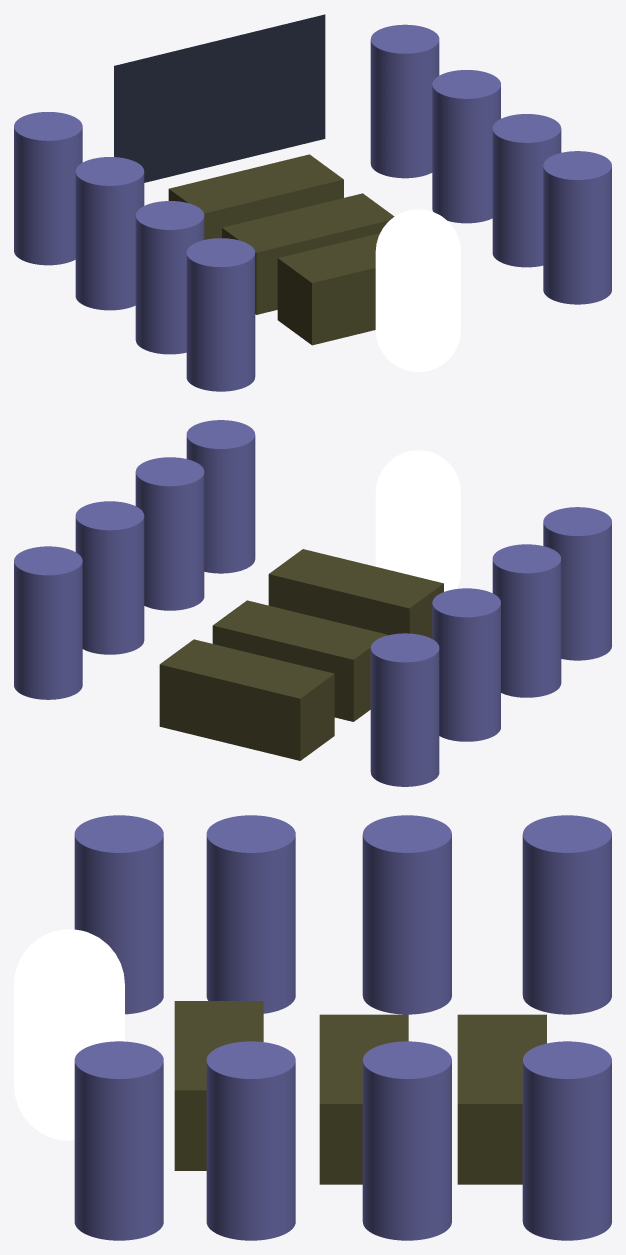
File: theater.glb
3 renders of one model, top to bottom at view 1: azimuth 30°, elevation 25°; view 2: azimuth 150°, elevation 25°; view 3: azimuth 270°, elevation 25°, orthographic. The views are drawn at different scales.
Visible parts, largest first — view 1: EmissiveScreen, glowingcapsule, Pillar3, Pillar7, Pillar9, Pillar8, Pillar, Pillar5, MeshInstance3D3, Pillar2, Pillar6, MeshInstance3D (+1 smaller); view 2: MeshInstance3D, Pillar8, glowingcapsule, Pillar9, MeshInstance3D3, Pillar5, Pillar, Pillar6, Pillar2, MeshInstance3D2, Pillar7, Pillar3; view 3: Pillar7, Pillar6, Pillar8, Pillar9, Pillar, Pillar5, glowingcapsule, Pillar2, Pillar3, MeshInstance3D, MeshInstance3D2, MeshInstance3D3.
Boxes of the visible parts, x1,y1,x2,y2 form: EmissiveScreen: [114, 14, 325, 182]; glowingcapsule: [375, 209, 460, 371]; Pillar3: [186, 238, 255, 391]; Pillar7: [543, 151, 611, 304]; Pillar9: [370, 24, 439, 178]; Pillar8: [14, 112, 82, 265]; Pillar: [75, 157, 144, 310]; Pillar5: [432, 70, 500, 223]; MeshInstance3D3: [277, 233, 379, 345]; Pillar2: [135, 201, 204, 354]; Pillar6: [492, 114, 561, 267]; MeshInstance3D: [168, 154, 343, 239]; MeshInstance3D: [159, 639, 334, 760]; Pillar8: [370, 633, 439, 786]; glowingcapsule: [375, 450, 460, 591]; Pillar9: [14, 546, 82, 699]; MeshInstance3D3: [268, 549, 443, 638]; Pillar5: [75, 501, 144, 654]; Pillar: [432, 588, 500, 741]; Pillar6: [135, 457, 204, 610]; Pillar2: [492, 544, 561, 697]; MeshInstance3D2: [212, 600, 387, 721]; Pillar7: [186, 420, 255, 573]; Pillar3: [543, 507, 611, 660]; Pillar7: [74, 1041, 163, 1240]; Pillar6: [206, 1041, 295, 1240]; Pillar8: [522, 815, 611, 1014]; Pillar9: [522, 1041, 611, 1240]; Pillar: [362, 815, 451, 1014]; Pillar5: [362, 1041, 451, 1240]; glowingcapsule: [14, 929, 124, 1140]; Pillar2: [206, 815, 295, 1013]; Pillar3: [74, 815, 163, 1014]; MeshInstance3D: [457, 1014, 546, 1184]; MeshInstance3D2: [319, 1014, 408, 1184]; MeshInstance3D3: [174, 1001, 263, 1170].
Size of what is drawn, in the model's own units: 7 by 2.95 by 6.71.
